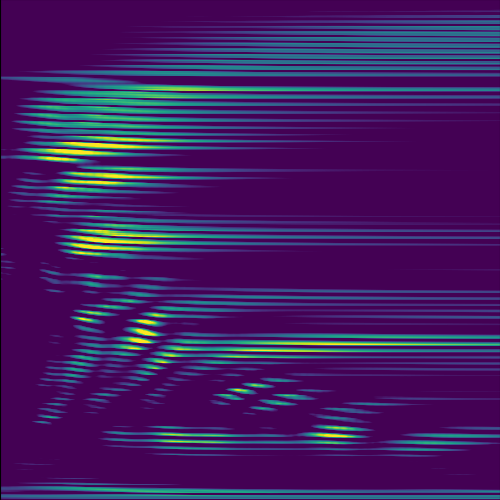semblance: (68, 296, 199, 375), (59, 222, 186, 261), (34, 131, 173, 165), (54, 161, 171, 193), (308, 422, 363, 442), (227, 377, 270, 401)
